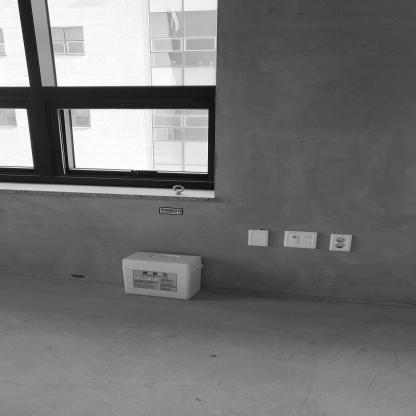DDL: (122, 251, 202, 301)
